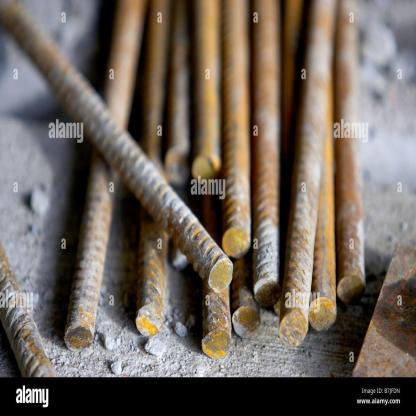rebar: (6, 0, 369, 360), (0, 240, 62, 381)
